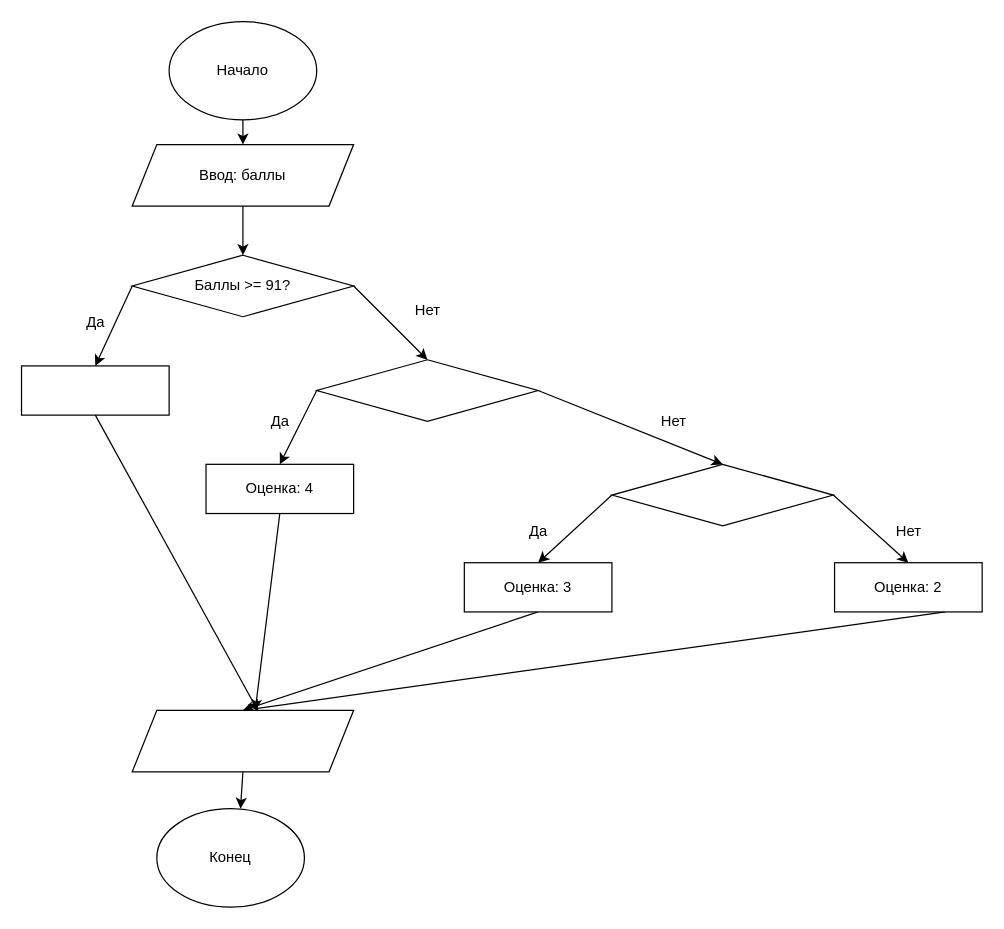
The diagram is 1004 pixels wide and 929 high, and some of its shapes have lost their labels. Each missing label, with the centre of its shape:
Баллы >= 51?: (722,494)
Баллы >= 71 ?: (426,390)
Вывод: бвллы: (242,740)
Оценка 5: (94,390)
